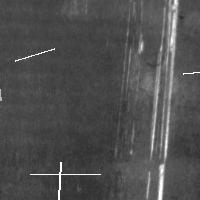scratches: (145, 1, 180, 199), (122, 28, 145, 76), (10, 44, 59, 66), (25, 169, 105, 179), (51, 157, 65, 200), (178, 59, 200, 78), (0, 51, 6, 105)
